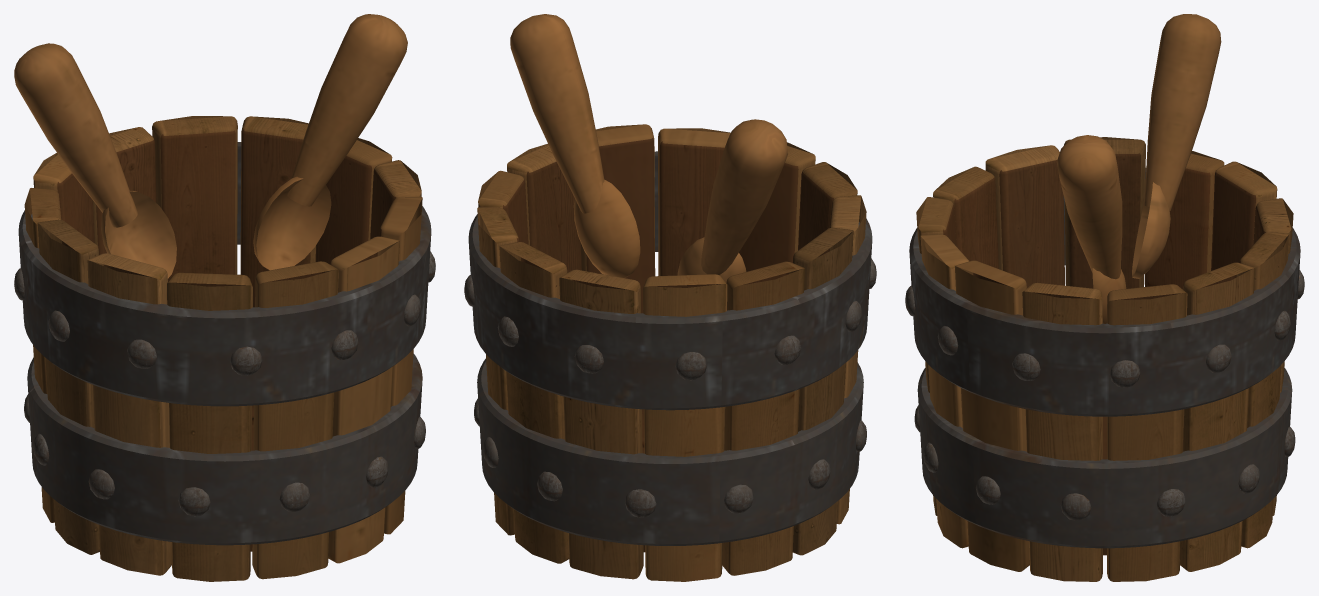
The model's file is bucket.glb.
The picture shows the model from 3 angles, left to right: view 1: azimuth 30°, elevation 25°; view 2: azimuth 150°, elevation 25°; view 3: azimuth 270°, elevation 25°; orthographic projection. The views are drawn at different scales.
Parts seen in each view (by area): view 1: bucket; view 2: bucket; view 3: bucket.
Part boxes in pixels (x1=…): bucket: x1=14, y1=14, x2=435, y2=581; bucket: x1=464, y1=14, x2=876, y2=581; bucket: x1=905, y1=14, x2=1304, y2=581.
Size of the model in its own units: 0.4371 by 0.5262 by 0.4371.
Materials: 25 (25 with a texture image).
